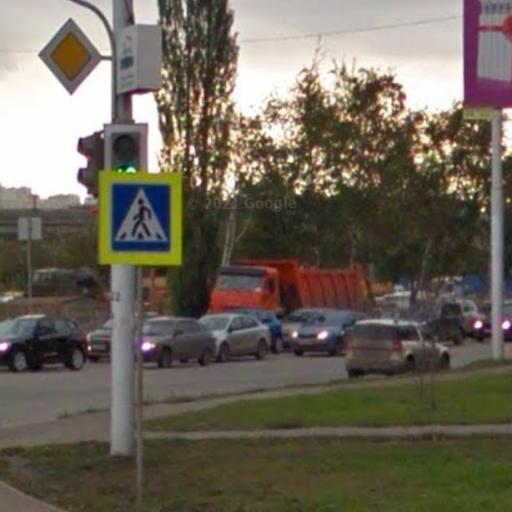traffic_sign: (94, 165, 188, 272), (37, 15, 107, 100)
